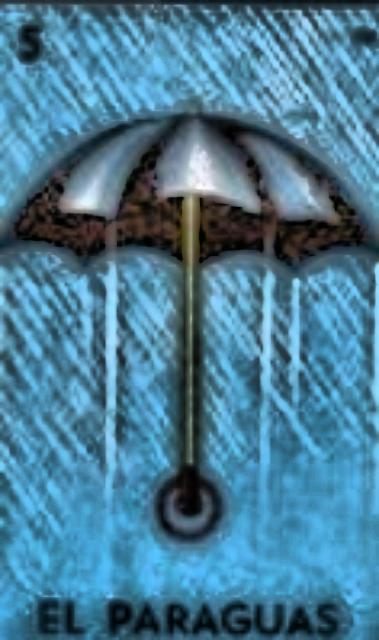El Paraguas: (0, 0, 379, 636)
